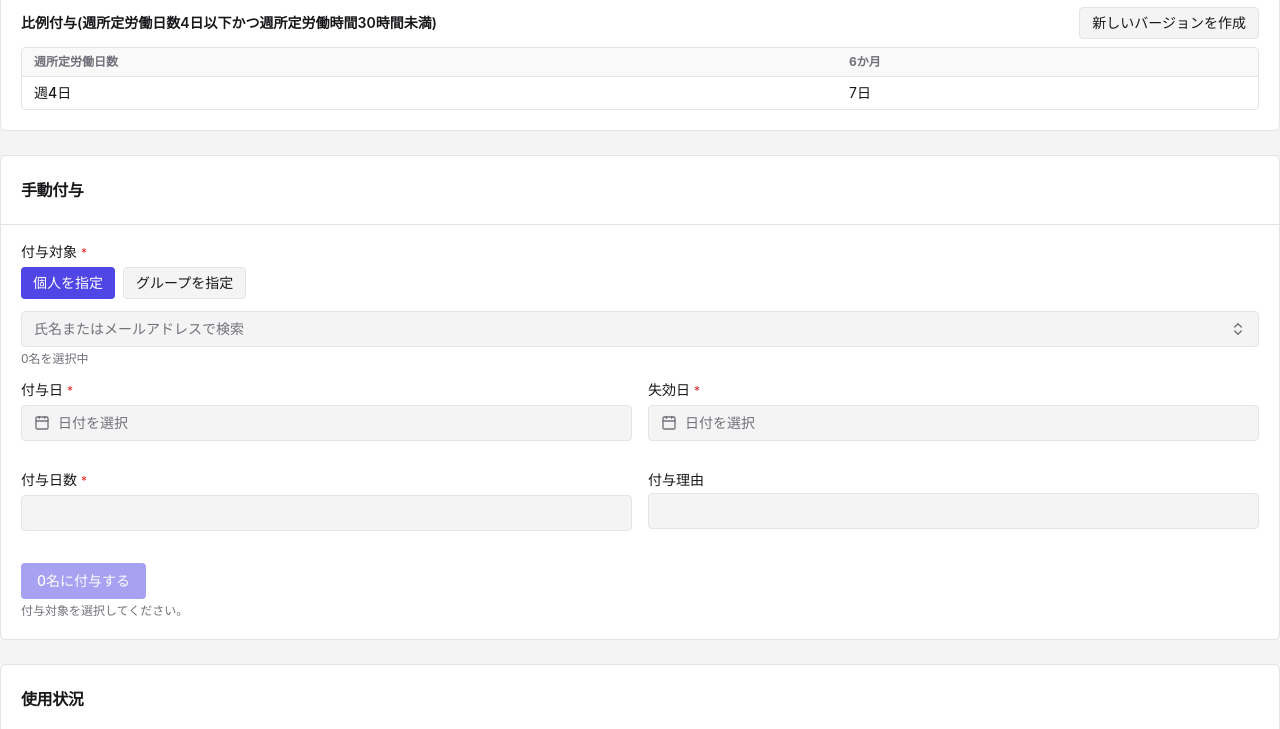
PaidLeavePolicyPage › revoke button of the target user grants › enables revoking the next grant once the newer one is revoked
(page scrolled)
Click the dropdown with id "grant-target-users" at {"x": 139, "y": 328}, box [21,311,1259,347]
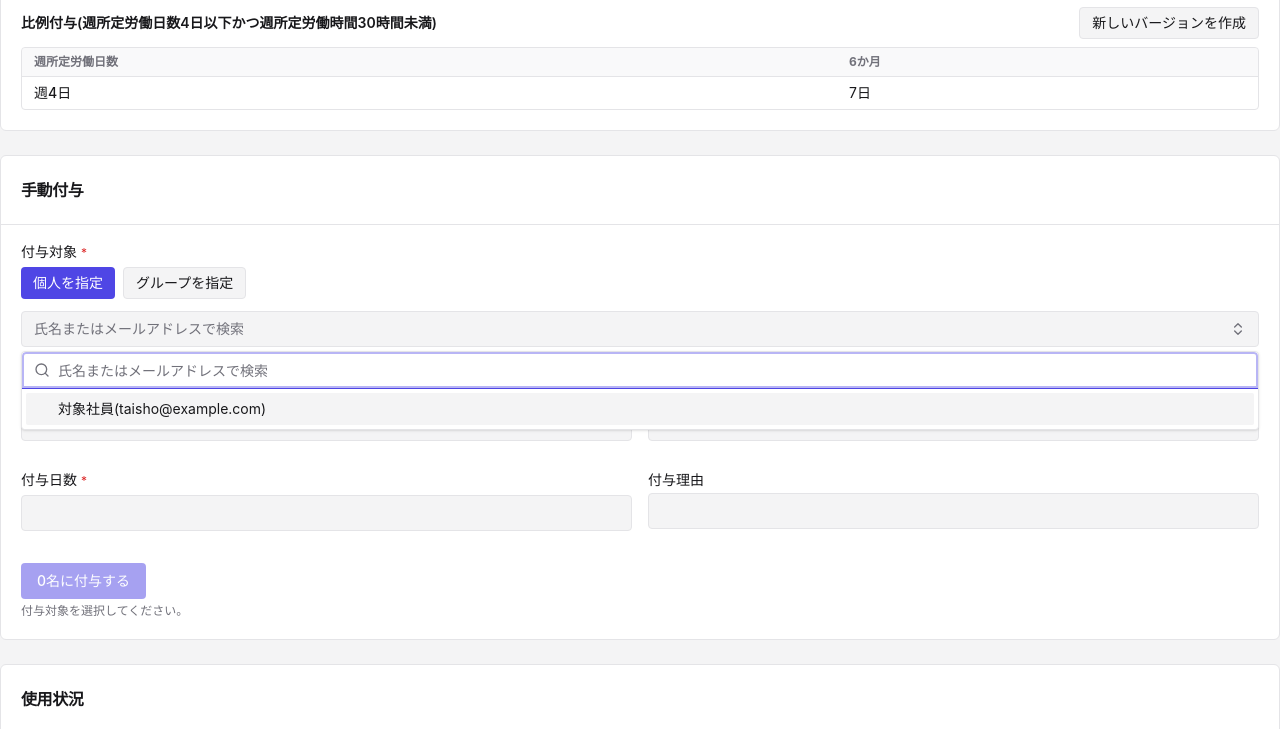
Type "対象" into the 2nd dropdown with placeholder "氏名またはメールアドレスで検索" at {"x": 652, "y": 370}, box [58,352,1246,388]
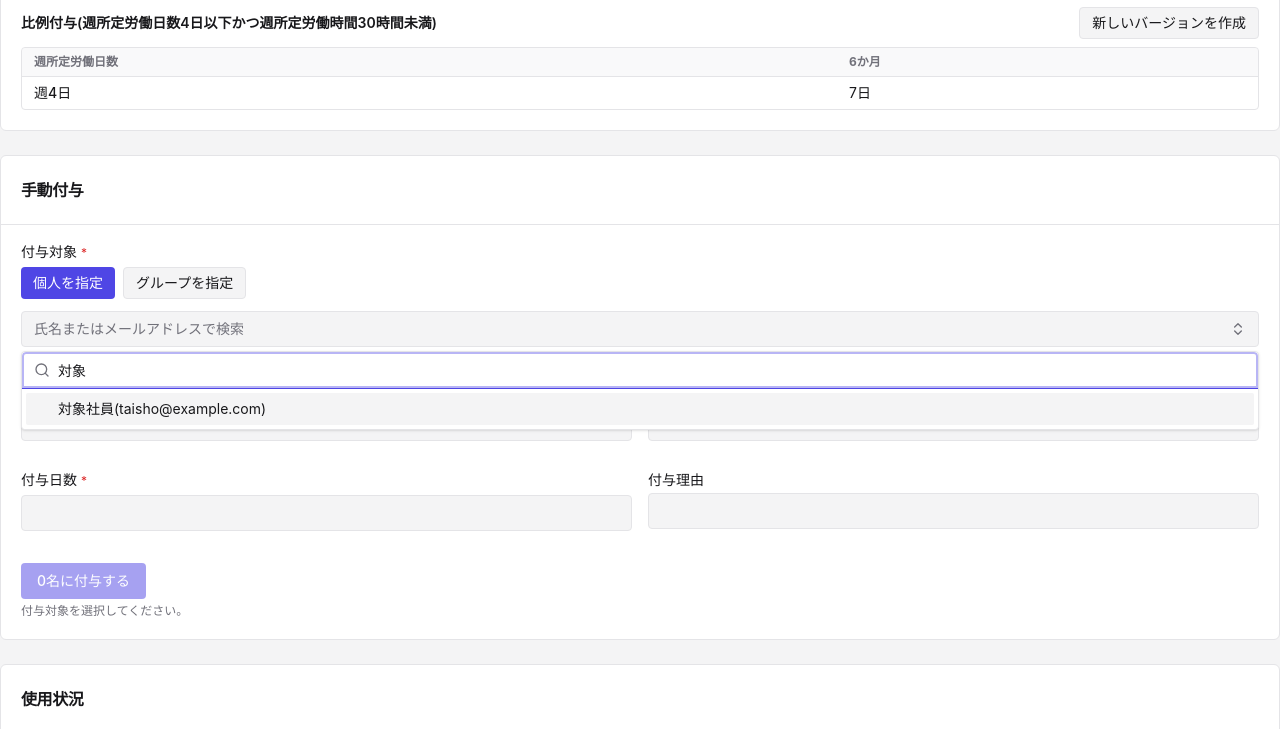
Click the option "対象社員(taisho@example.com)" at {"x": 86, "y": 408}, box [26,393,1254,425]
(page scrolled)
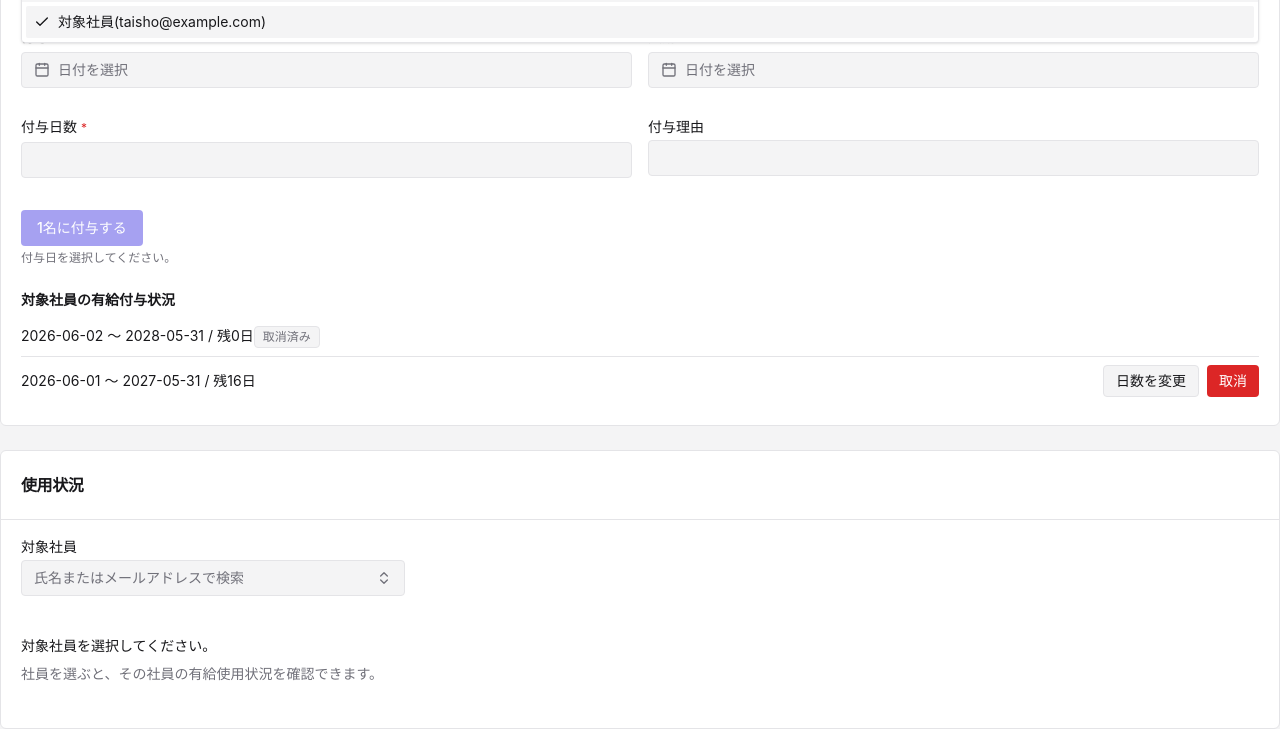
Expected: the heading "対象社員の有給付与状況" is shown, [21,291,175,308]
Expected: the number of buttons "取消" is 1, [1207,365,1259,397]
Expected: the button "取消" is enabled, [1207,365,1259,397]
